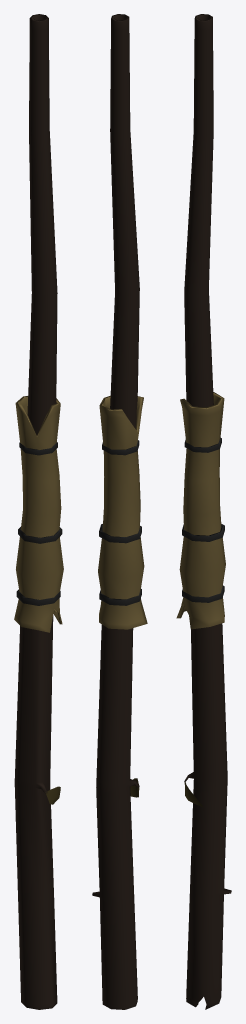
Rendered from Mob 2 Sarbacane.fbx.
3 views of the same model, side by side, from view 1: azimuth 90°, elevation 25°; view 2: azimuth 150°, elevation 25°; view 3: azimuth 330°, elevation 25° (orthographic).
Visible parts, largest first — view 1: Cylinder; view 2: Cylinder; view 3: Cylinder.
Boxes of the visible parts, box(x1,y1,x2,y2) form: Cylinder: box(14, 14, 63, 1009); Cylinder: box(92, 14, 147, 1009); Cylinder: box(176, 14, 231, 1009).
Size of the model in its own units: 3 by 61.42 by 2.81.
